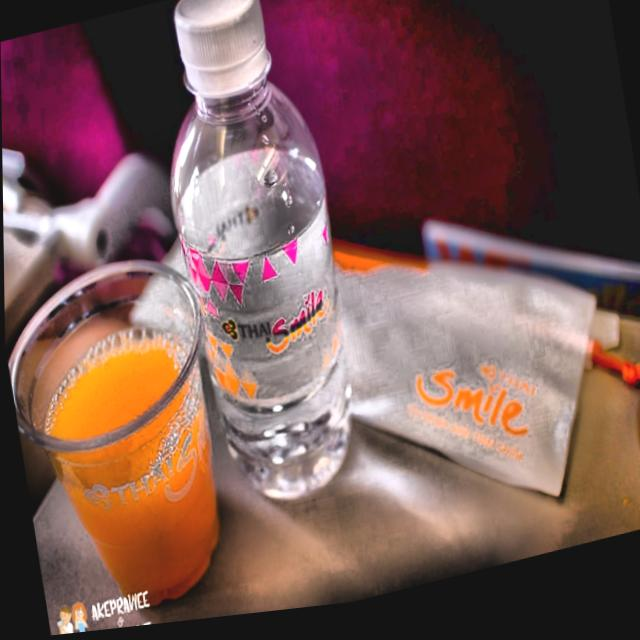Bottles: (133, 0, 396, 547)
